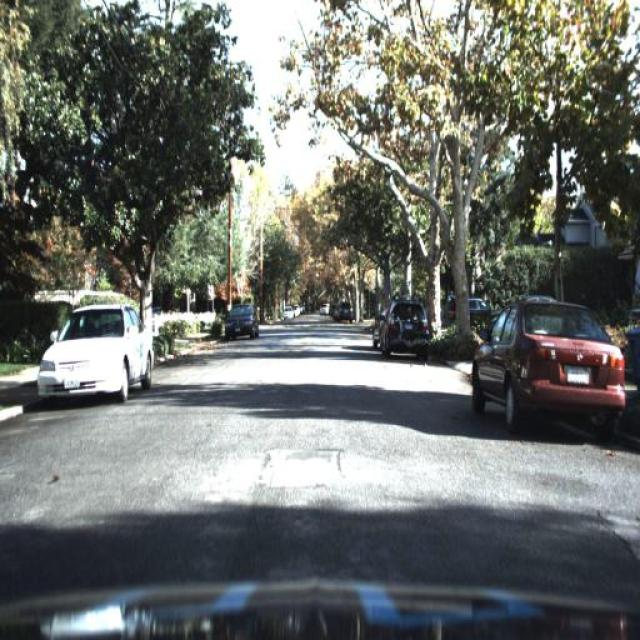car: (462, 302, 628, 436), (36, 304, 155, 404), (380, 308, 430, 368), (224, 301, 255, 338), (370, 306, 386, 353), (336, 298, 354, 323)
